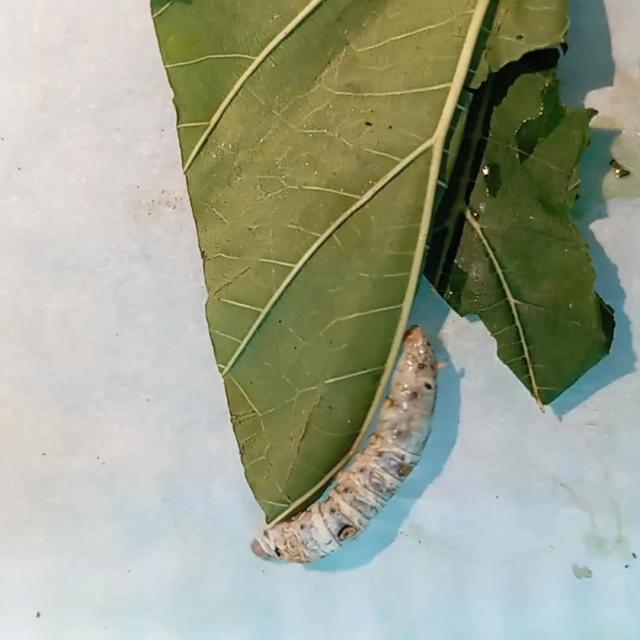Grasserie: (248, 314, 447, 573)
